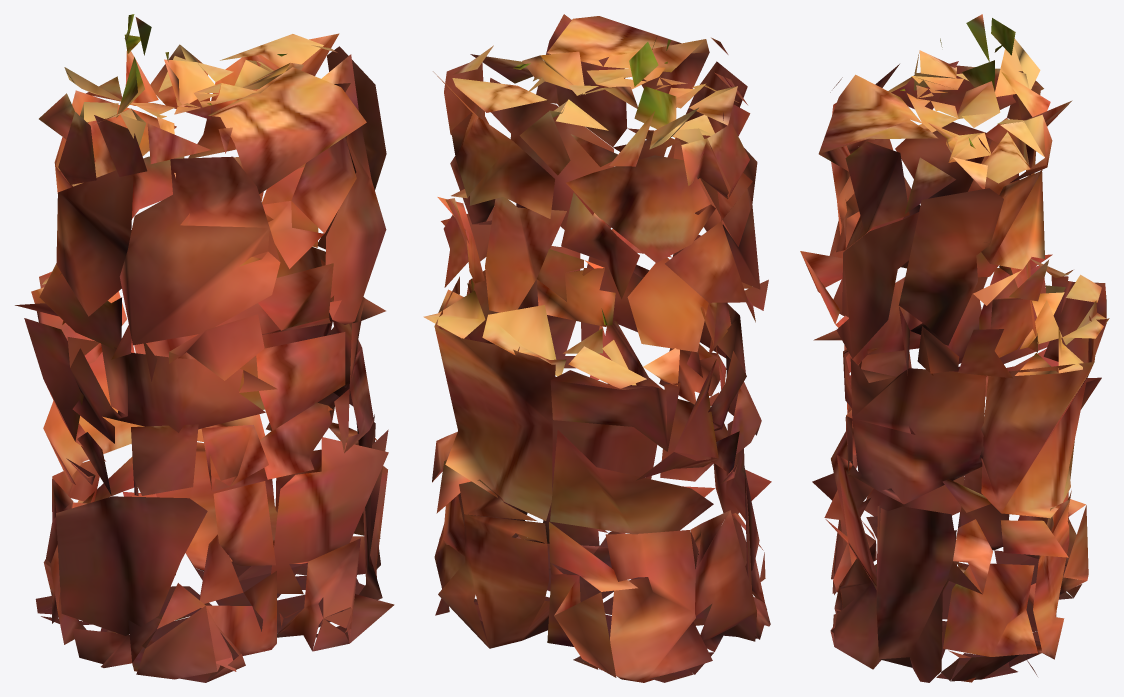
File: paredao-lod.glb
3 views of the same model, side by side, from view 1: azimuth 30°, elevation 25°; view 2: azimuth 150°, elevation 25°; view 3: azimuth 270°, elevation 25° (orthographic). The views are drawn at different scales.
Visible parts, largest first — view 1: paredao; view 2: paredao; view 3: paredao.
Boxes of the visible parts, x1,y1,x2,y2 form: paredao: (15,14,394,682); paredao: (423,14,771,682); paredao: (800,14,1109,682).
Size of the model in its own units: 0.5436 by 1 by 0.4802.
Materials: 1 (1 with a texture image).
